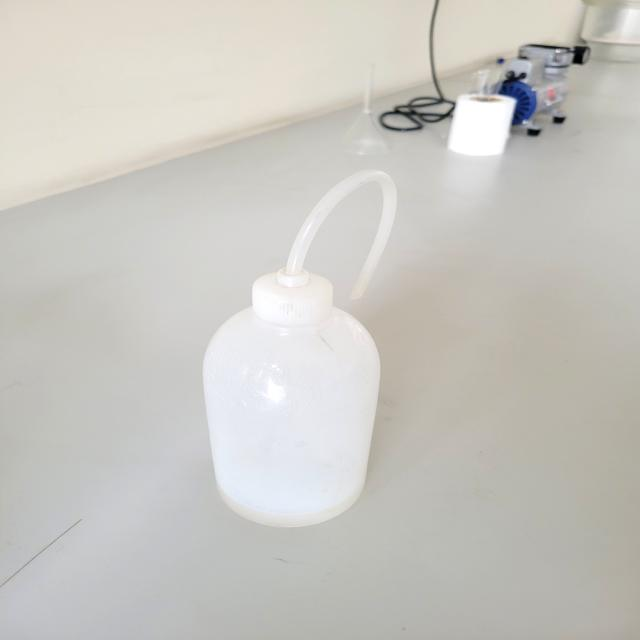Wash_Bottle: (206, 165, 434, 534)
